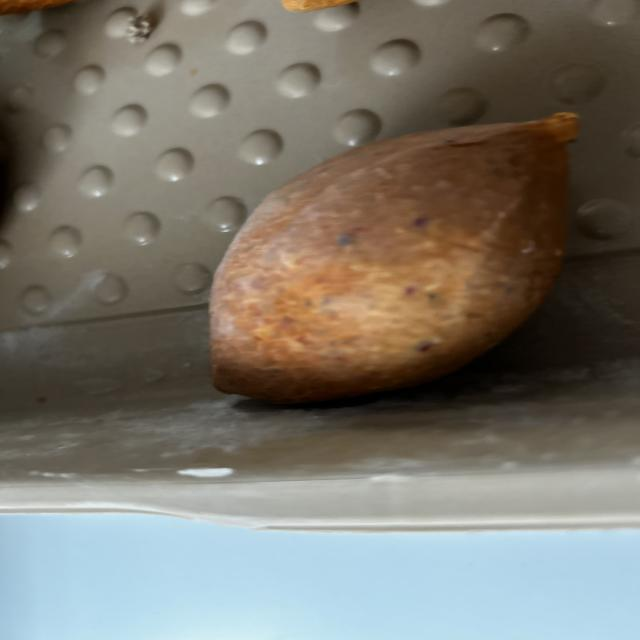kobi: (207, 110, 580, 404)
